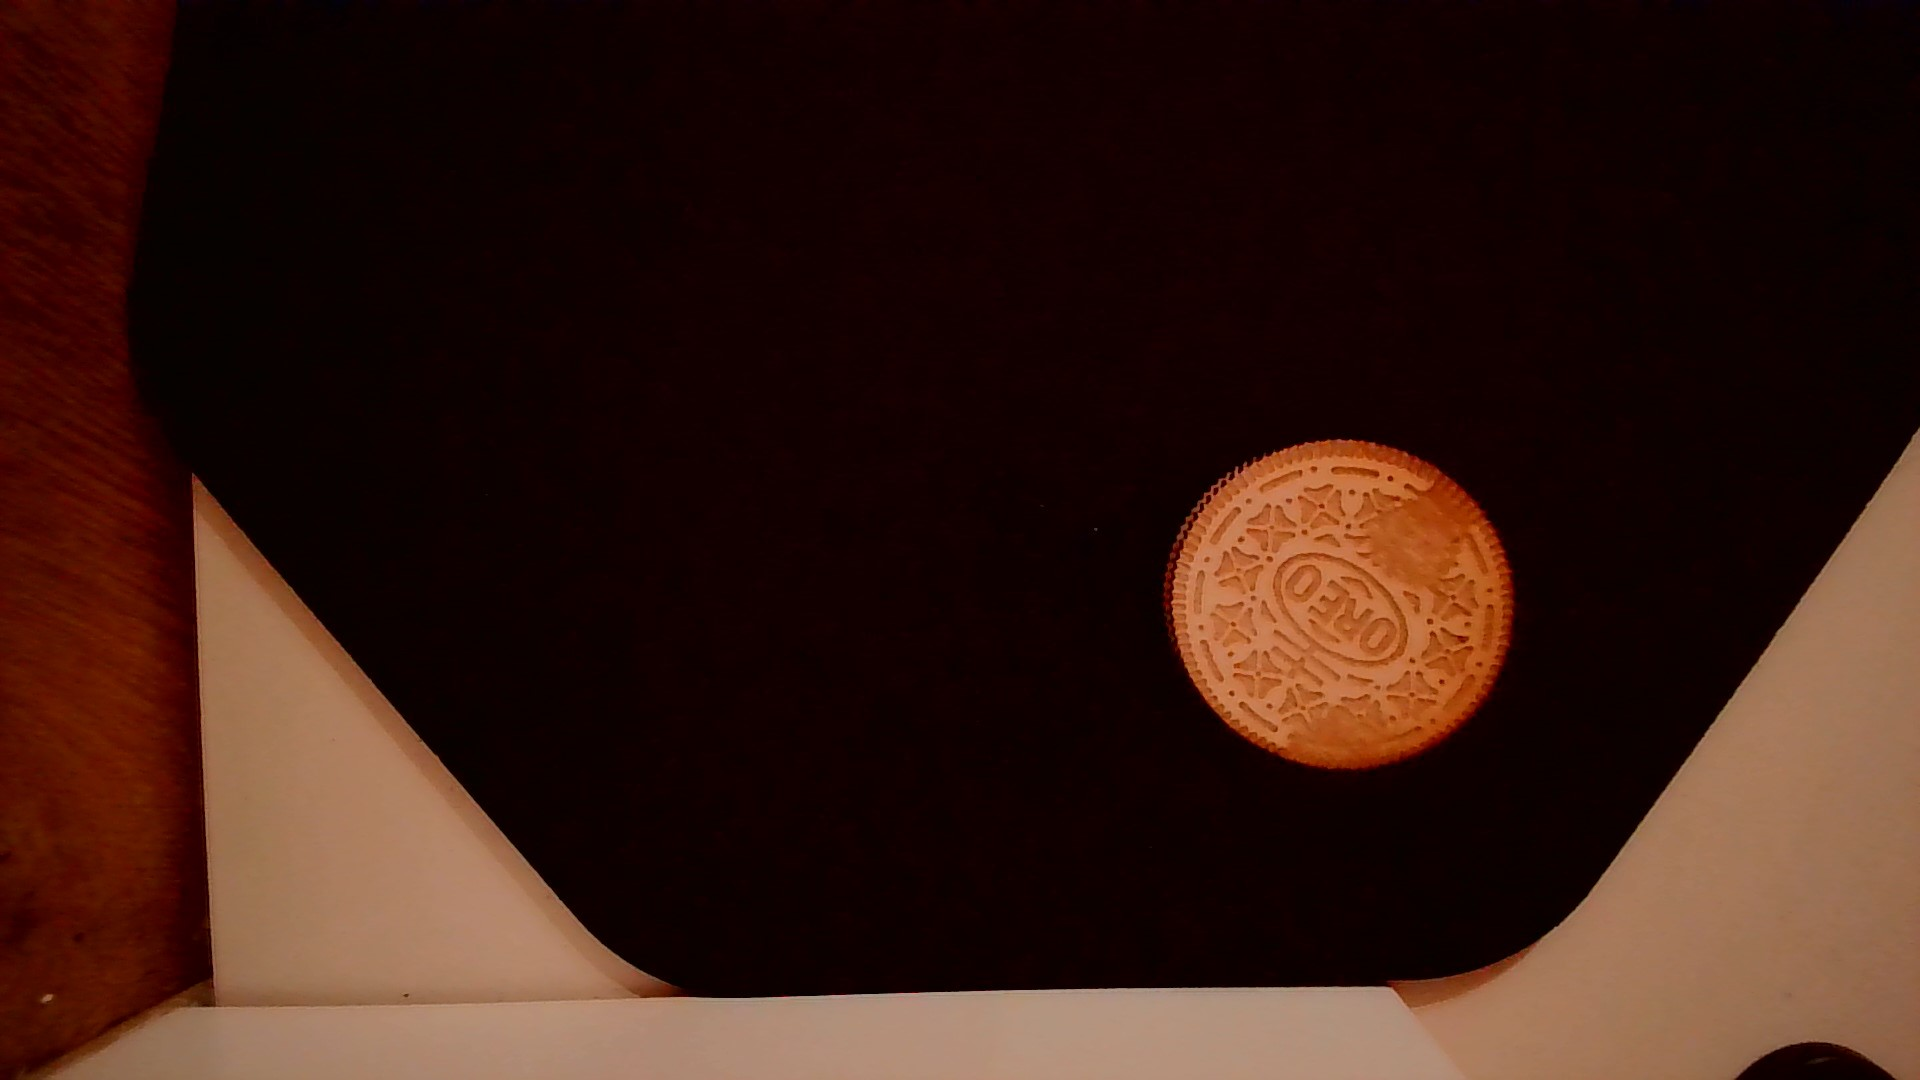Effacé: (1352, 491, 1476, 582), (1283, 700, 1420, 765)
Oréo: (1160, 425, 1519, 773)
